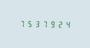five: (25, 19, 32, 27)
four: (65, 20, 72, 28)
nine: (49, 20, 56, 28)
seven: (41, 19, 48, 28), (17, 19, 24, 27)
three: (33, 19, 40, 27)
two: (57, 20, 64, 28)
